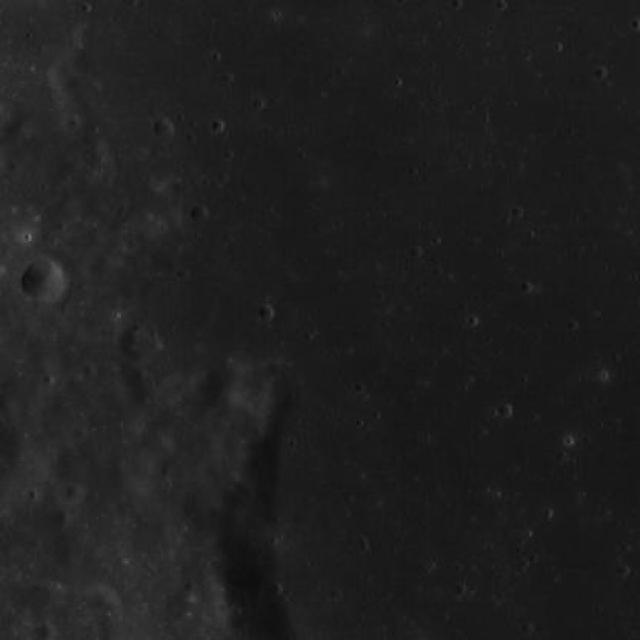crater: (197, 360, 246, 409), (20, 258, 66, 304), (116, 322, 156, 362), (176, 482, 216, 522), (80, 142, 109, 170), (86, 584, 114, 612), (37, 581, 63, 607), (152, 118, 172, 138), (35, 621, 55, 640), (188, 202, 207, 221), (63, 484, 82, 502), (62, 584, 80, 602), (54, 512, 72, 528), (257, 305, 274, 321), (0, 404, 15, 421), (0, 0, 2, 2)
